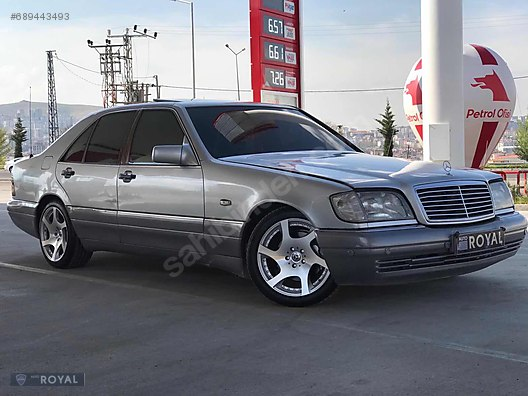mercedes: (7, 93, 528, 314)
